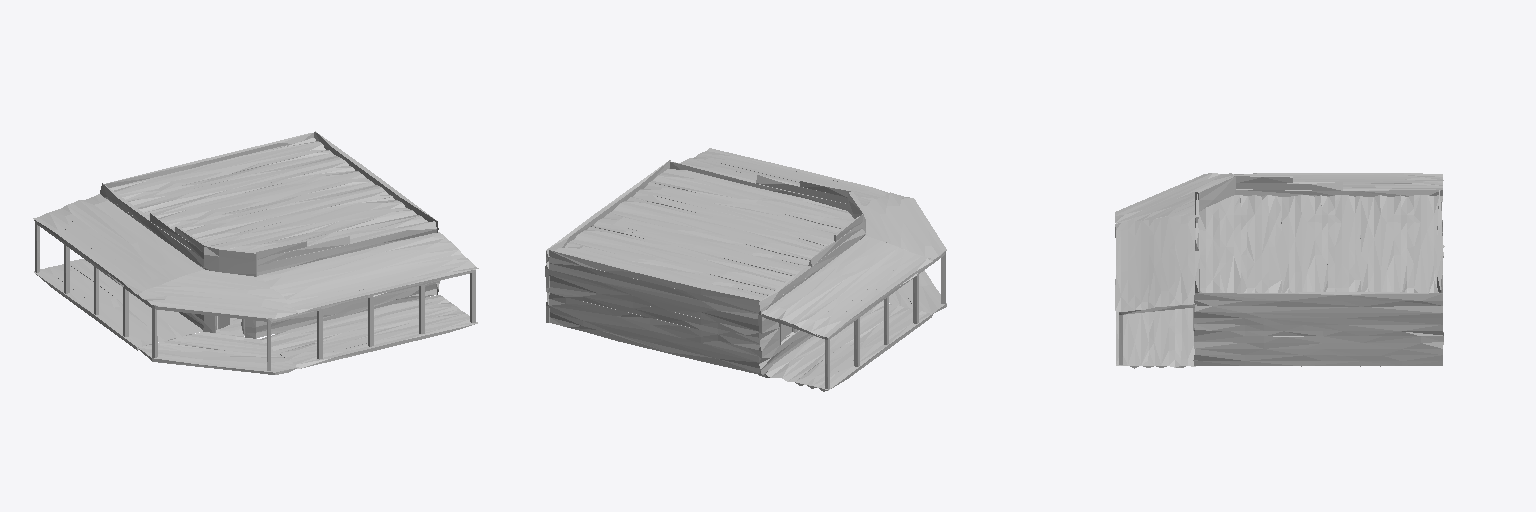
The model's file is Saloon_LOD2.obj.
3 renders of one model, left to right at view 1: azimuth 30°, elevation 25°; view 2: azimuth 150°, elevation 25°; view 3: azimuth 270°, elevation 25°, orthographic.
Visible parts, largest first — view 1: WildWest_Saloon_Porch, WildWest_Saloon_Ceiling, WildWest_Saloon_Building; view 2: WildWest_Saloon_Porch, WildWest_Saloon_Building, WildWest_Saloon_Ceiling; view 3: WildWest_Saloon_Ceiling, WildWest_Saloon_Building, WildWest_Saloon_Porch.
Part boxes in pixels (left/top/right/bottom): WildWest_Saloon_Porch: left=33, top=194, right=478, bottom=374; WildWest_Saloon_Ceiling: left=110, top=138, right=428, bottom=335; WildWest_Saloon_Building: left=100, top=131, right=439, bottom=338; WildWest_Saloon_Porch: left=681, top=148, right=946, bottom=391; WildWest_Saloon_Building: left=545, top=160, right=865, bottom=374; WildWest_Saloon_Ceiling: left=556, top=169, right=853, bottom=374; WildWest_Saloon_Ceiling: left=1199, top=195, right=1438, bottom=366; WildWest_Saloon_Building: left=1193, top=176, right=1443, bottom=365; WildWest_Saloon_Porch: left=1115, top=173, right=1444, bottom=368.
Size of the model in its own units: 14.19 by 4.24 by 14.28.